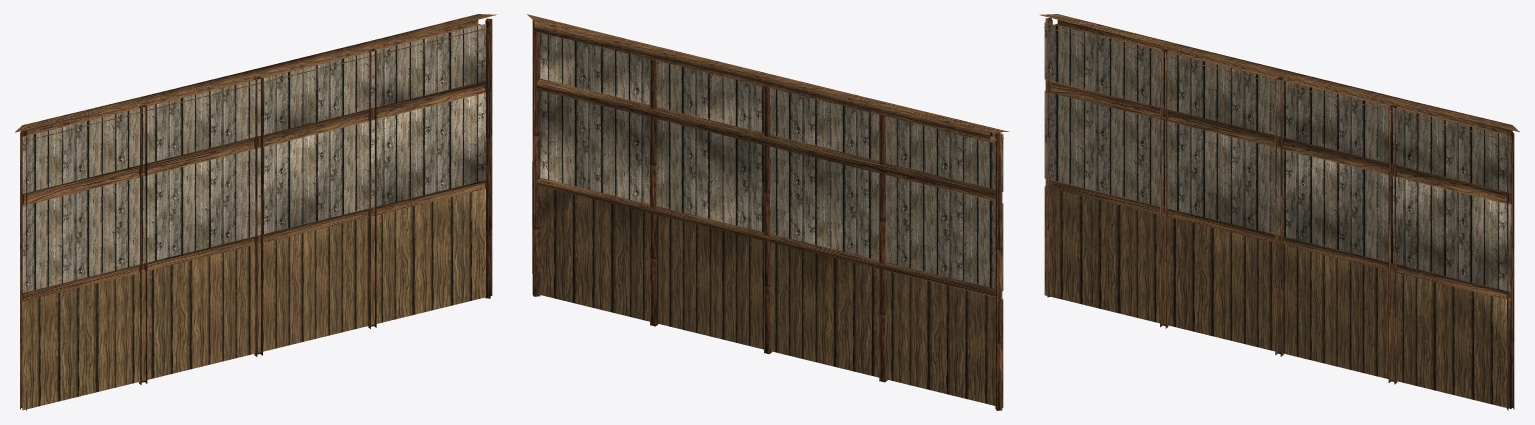
Rendered from LAKETOWN_WAREHOUSE2_PS_WH2_SIDEWALL99848__GX.fbx.
3 renders of one model, left to right at view 1: azimuth 30°, elevation 25°; view 2: azimuth 150°, elevation 25°; view 3: azimuth 330°, elevation 25°, orthographic.
Parts seen in each view (by area): view 1: LAKETOWN_WAREHOUSE2_PS_WH2_SIDEWALL99848__GX; view 2: LAKETOWN_WAREHOUSE2_PS_WH2_SIDEWALL99848__GX; view 3: LAKETOWN_WAREHOUSE2_PS_WH2_SIDEWALL99848__GX.
Part boxes in pixels (x1,y1,x2,y2): LAKETOWN_WAREHOUSE2_PS_WH2_SIDEWALL99848__GX: (15, 14, 496, 410); LAKETOWN_WAREHOUSE2_PS_WH2_SIDEWALL99848__GX: (527, 14, 1009, 410); LAKETOWN_WAREHOUSE2_PS_WH2_SIDEWALL99848__GX: (1040, 14, 1519, 410).
Bounding box in the file's own units: 205352 × 114126 × 6247.
5 materials, 5 textured.
